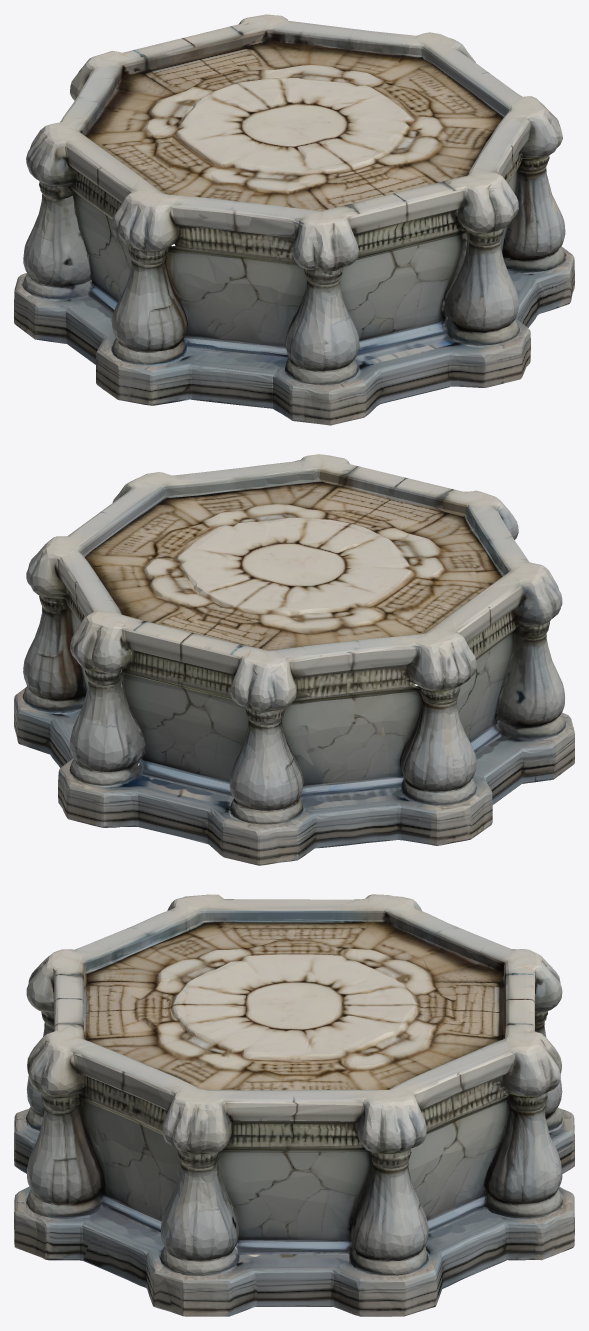
The model's file is octagonal-temple-altar-optimized.glb.
The picture shows the model from 3 angles, top to bottom: view 1: azimuth 30°, elevation 25°; view 2: azimuth 150°, elevation 25°; view 3: azimuth 270°, elevation 25°; orthographic projection. The views are drawn at different scales.
Parts seen in each view (by area): view 1: 0387b8c5-dc85-47da-907e-6211534bf95f_texturing.obj; view 2: 0387b8c5-dc85-47da-907e-6211534bf95f_texturing.obj; view 3: 0387b8c5-dc85-47da-907e-6211534bf95f_texturing.obj.
Boxes of the visible parts, x1,y1,x2,y2 form: 0387b8c5-dc85-47da-907e-6211534bf95f_texturing.obj: (14, 14, 574, 425); 0387b8c5-dc85-47da-907e-6211534bf95f_texturing.obj: (14, 454, 574, 865); 0387b8c5-dc85-47da-907e-6211534bf95f_texturing.obj: (14, 894, 574, 1316).
Size of the model in its own units: 1.6 by 0.6285 by 1.6.
1 material, 1 textured.
